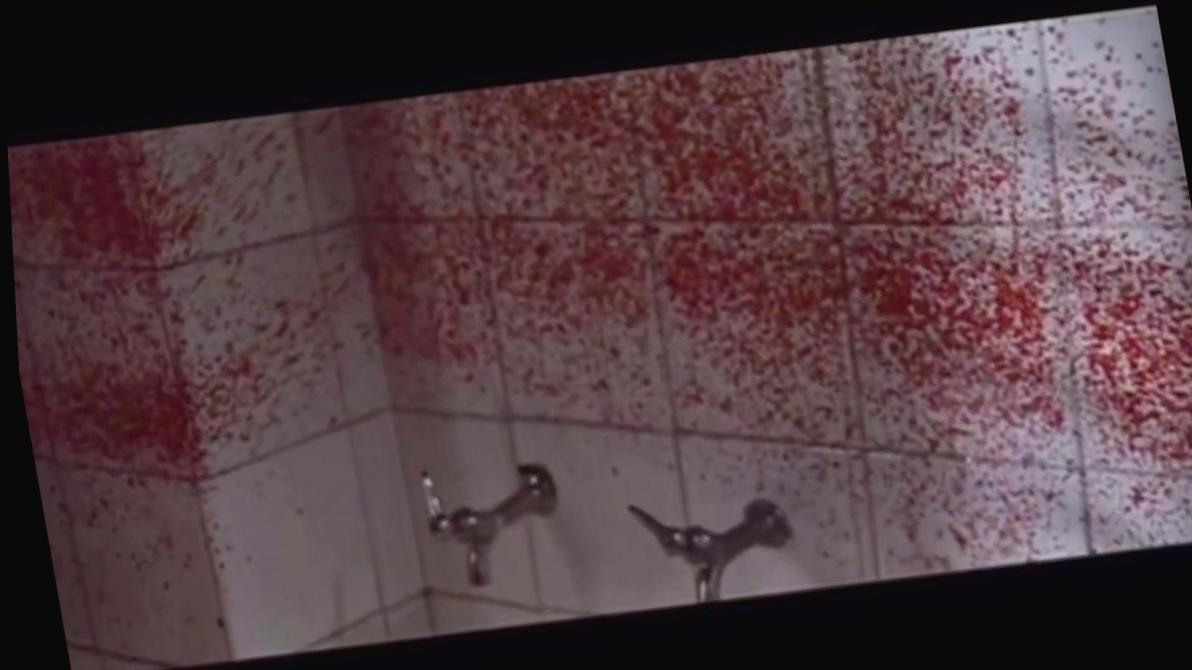Fire: (341, 8, 1192, 610), (6, 122, 338, 500)
